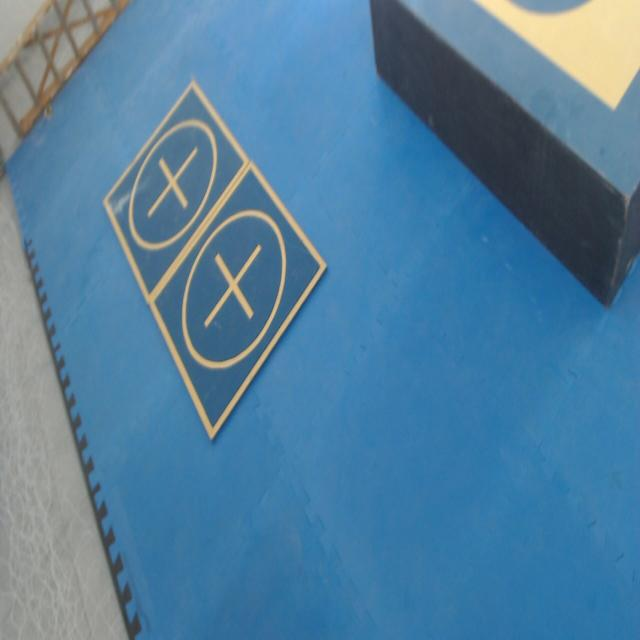base_inicio: (474, 0, 640, 111)
base_pouso: (150, 159, 327, 441), (103, 80, 251, 305)
